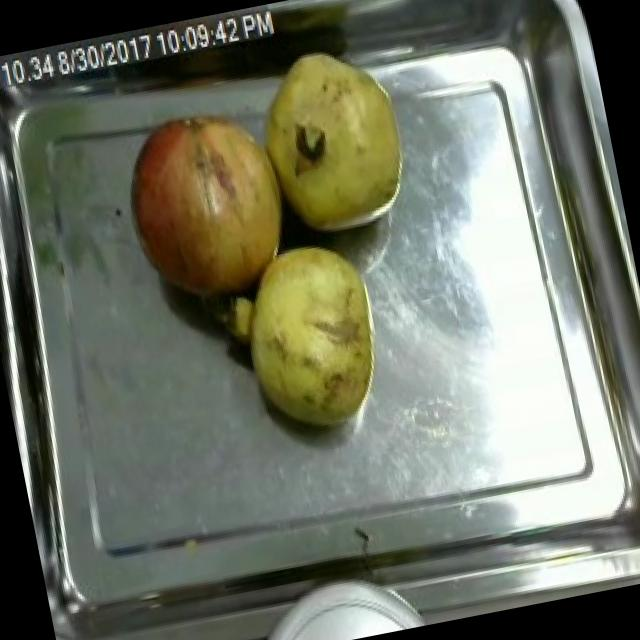fruit: (104, 88, 307, 327), (218, 226, 402, 452), (242, 32, 423, 252)
